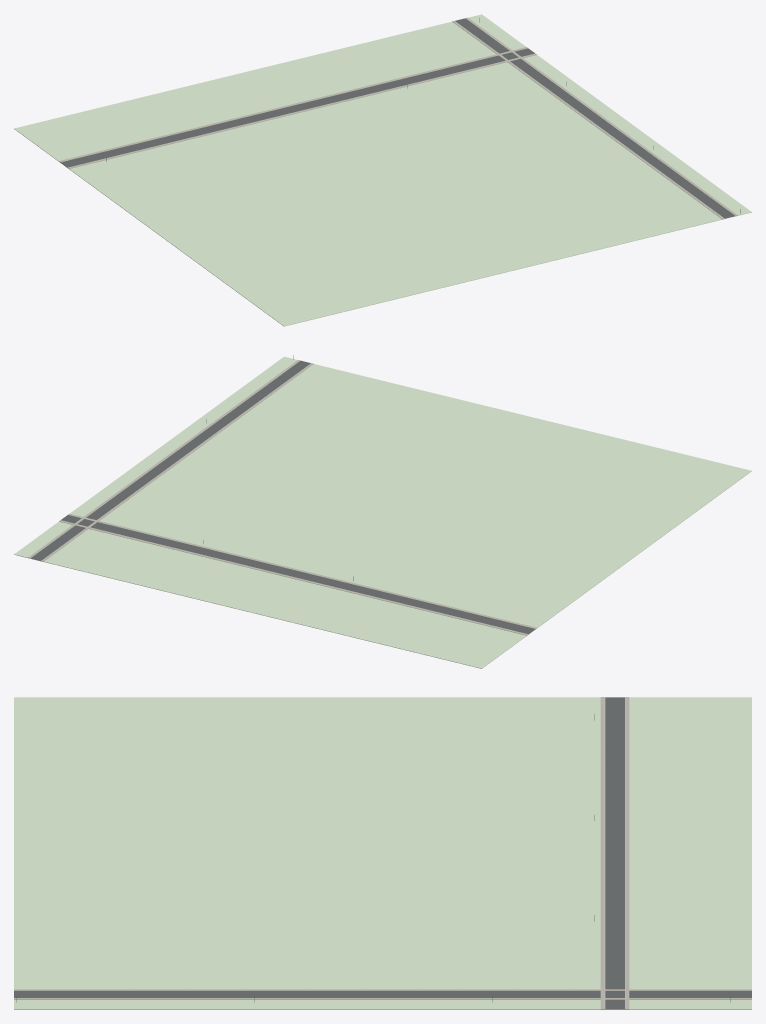
File: chunk_5_4_low.glb
3 renders of one model, top to bottom at view 1: azimuth 30°, elevation 25°; view 2: azimuth 150°, elevation 25°; view 3: azimuth 270°, elevation 25°, orthographic. The views are drawn at different scales.
Visible parts, largest first — view 1: city_grass, city_world_asphalt, city_world_sidewalk, city_curb; view 2: city_grass, city_world_asphalt, city_world_sidewalk, city_curb; view 3: city_grass, city_world_asphalt, city_world_sidewalk, city_curb.
Boxes of the visible parts, x1,y1,x2,y2 form: city_grass: (14,14,751,326); city_world_asphalt: (60,18,734,218); city_world_sidewalk: (59,17,737,219); city_curb: (60,18,735,218); city_grass: (14,356,751,668); city_world_asphalt: (31,360,535,634); city_world_sidewalk: (28,360,536,635); city_curb: (30,360,535,634); city_grass: (14,697,751,1009); city_world_asphalt: (14,697,751,1009); city_world_sidewalk: (14,697,751,1009); city_curb: (14,697,751,1008).
Bounding box in the file's own units: 512 × 5.41 × 512.
